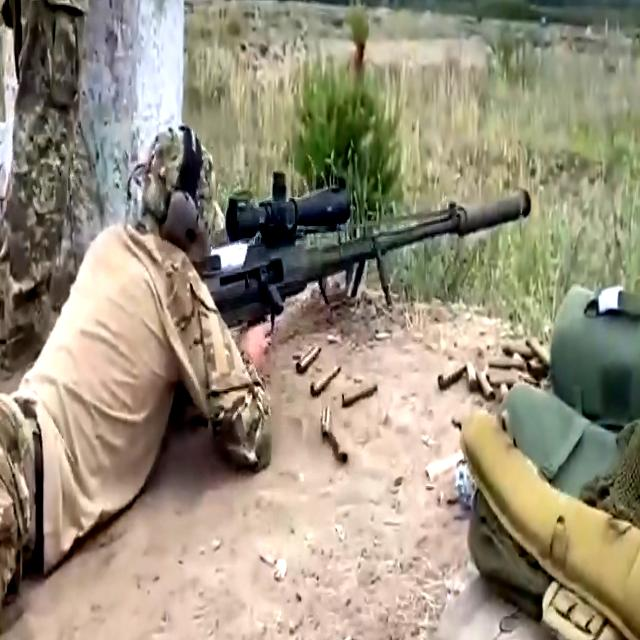rifle: (186, 163, 538, 329)
